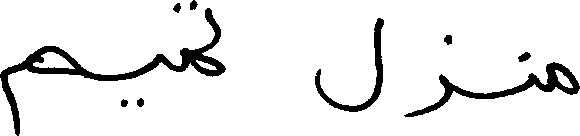ت: (167, 0, 228, 36)
ز: (403, 32, 451, 117)
ل: (314, 16, 383, 112)
م: (0, 43, 81, 134), (181, 41, 225, 77), (547, 59, 578, 95)
ن: (518, 50, 537, 93)
ي: (119, 51, 169, 107)
